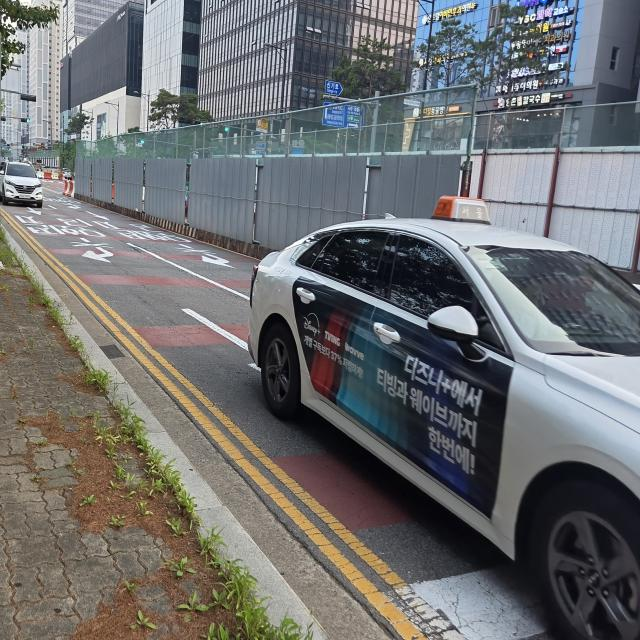car: (243, 162, 640, 640)
